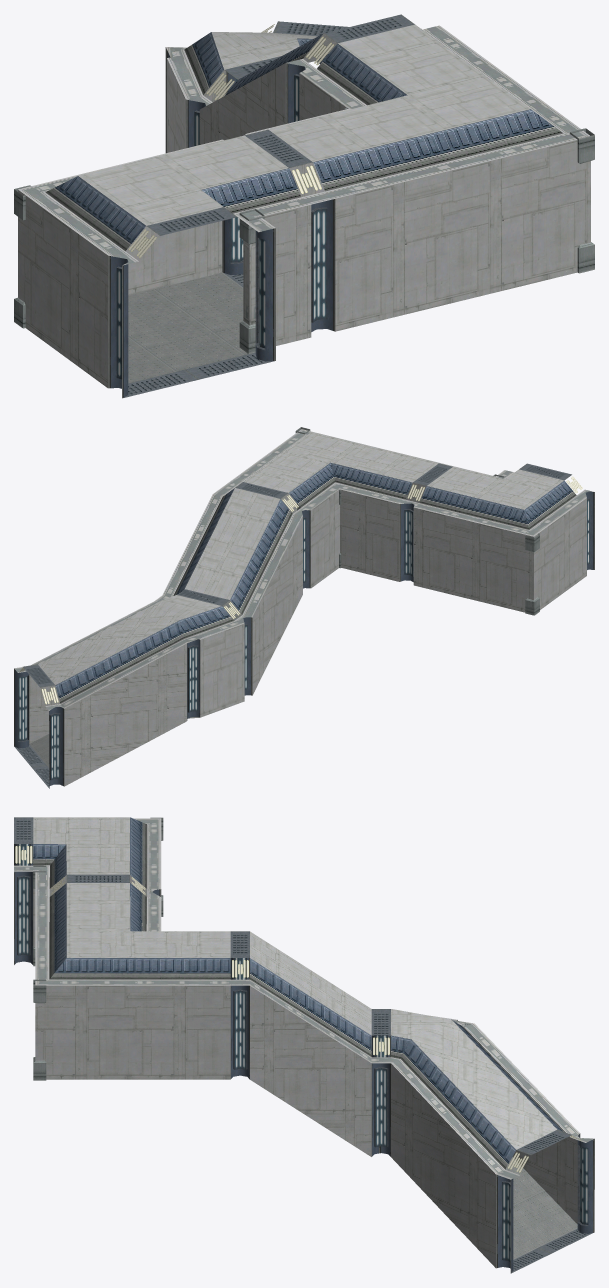
File: mun_tato_cloning_s01_r3_ramp_mesh_r3.fbx
3 renders of one model, top to bottom at view 1: azimuth 30°, elevation 25°; view 2: azimuth 150°, elevation 25°; view 3: azimuth 270°, elevation 25°, orthographic. The views are drawn at different scales.
Visible parts, largest first — view 1: mesh_node; view 2: mesh_node; view 3: mesh_node.
Part boxes in pixels (box(x1,y1,x2,y2)): mesh_node: box(14, 14, 594, 398); mesh_node: box(14, 427, 594, 788); mesh_node: box(14, 817, 594, 1273).
Size of the model in its own units: 18.73 by 9.83 by 20.77.
